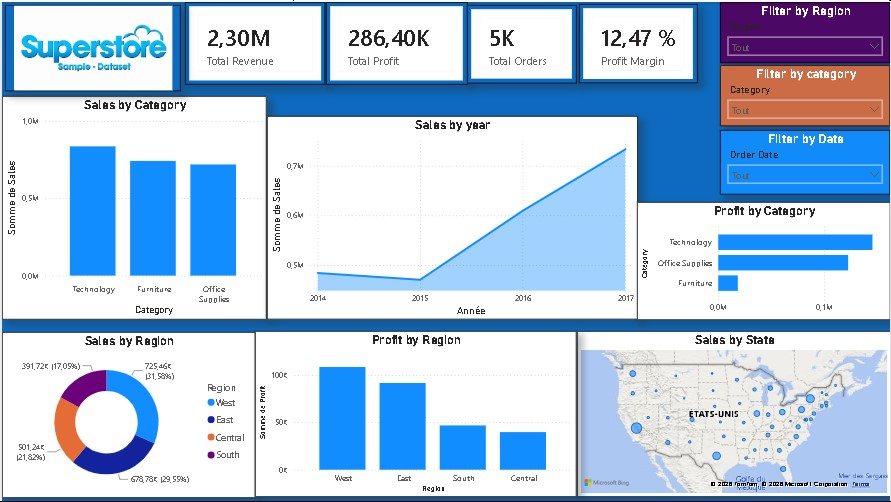

The page's visual inventory and layout, read from the dashboard file:
{"tool":"powerbi","page":{"name":"Page 1","canvas":[1280,720],"ordinal":0},"visuals":[{"type":"cardVisual","fields":{"Data":["Sample - Superstore csv.Total Revenue"]},"box":[263.6,0,202.3,119.4],"z":0},{"type":"cardVisual","fields":{"Data":["Sample - Superstore csv.Total Profit"]},"box":[465.9,0,203.9,119.4],"z":1000},{"type":"cardVisual","fields":{"Data":["Sample - Superstore csv.Total Orders"]},"box":[669.8,5,157.5,112.7],"z":2000},{"type":"cardVisual","fields":{"Data":["Sample - Superstore csv.Profit Margin"]},"box":[830.7,3.3,170.8,114.4],"z":3000},{"type":"columnChart","title":"Sales by Category","fields":{"Category":["Sample - Superstore csv.Category"],"Y":["Sum(Sample - Superstore csv.Sales)"]},"box":[0,136,381.3,321.7],"z":4000},{"type":"stackedAreaChart","title":"Sales by year","fields":{"Category":["Sample - Superstore csv.Order Date.Variation.Hiérarchie de dates.Année","Sample - Superstore csv.Order Date.Variation.Hiérarchie de dates.Trimestre","Sample - Superstore csv.Order Date.Variation.Hiérarchie de dates.Mois","Sample - Superstore csv.Order Date.Variation.Hiérarchie de dates.Jour"],"Y":["Sum(Sample - Superstore csv.Sales)"]},"box":[381.3,164.1,533.9,293.5],"z":5000},{"type":"donutChart","title":"Sales by Region","fields":{"Y":["Sum(Sample - Superstore csv.Sales)"],"Category":["Sample - Superstore csv.Region"]},"box":[0,475.9,364.8,238.8],"z":6000},{"type":"map","title":"Sales by State","fields":{"Category":["Sample - Superstore csv.State"],"Size":["CountNonNull(Sample - Superstore csv.State)"]},"box":[827.4,474.2,452.6,238.8],"z":7000},{"type":"clusteredColumnChart","title":"Profit by Region","fields":{"Category":["Sample - Superstore csv.Region"],"Y":["Sum(Sample - Superstore csv.Profit)"]},"box":[364.8,474.2,462.6,238.8],"z":8000},{"type":"slicer","title":"Filter by Region","fields":{"Values":["Sample - Superstore csv.Region"]},"box":[1034.6,0,245.4,87.9],"z":9000},{"type":"slicer","title":"Filter by category","fields":{"Values":["Sample - Superstore csv.Category"]},"box":[1034.6,91.2,245.4,87.9],"z":10000},{"type":"slicer","title":"Filter by Date","fields":{"Values":["Sample - Superstore csv.Order Date"]},"box":[1034.6,184,245.4,92.8],"z":11000},{"type":"barChart","title":"Profit by Category","fields":{"Category":["Sample - Superstore csv.Category"],"Y":["Sum(Sample - Superstore csv.Profit)"]},"box":[915,288.3,365,170],"z":12000},{"type":"image","box":[4.3,4.3,253.4,123.8],"z":12001}]}

Visuals, with their boxes in screenshot pixels (x1, y1, x2, y2), scaled from the page's 1280x720 canvas onto the 891x502 screenshot:
cardVisual - Sample - Superstore csv.Total Revenue: [183,0,324,83]
cardVisual - Sample - Superstore csv.Total Profit: [324,0,466,83]
cardVisual - Sample - Superstore csv.Total Orders: [466,3,576,82]
cardVisual - Sample - Superstore csv.Profit Margin: [578,2,697,82]
"Sales by Category" columnChart: [0,95,265,319]
"Sales by year" stackedAreaChart: [265,114,637,319]
"Sales by Region" donutChart: [0,332,254,498]
"Sales by State" map: [576,331,890,497]
"Profit by Region" clusteredColumnChart: [254,331,576,497]
"Filter by Region" slicer: [720,0,890,61]
"Filter by category" slicer: [720,64,890,125]
"Filter by Date" slicer: [720,128,890,193]
"Profit by Category" barChart: [637,201,890,320]
image: [3,3,179,89]
